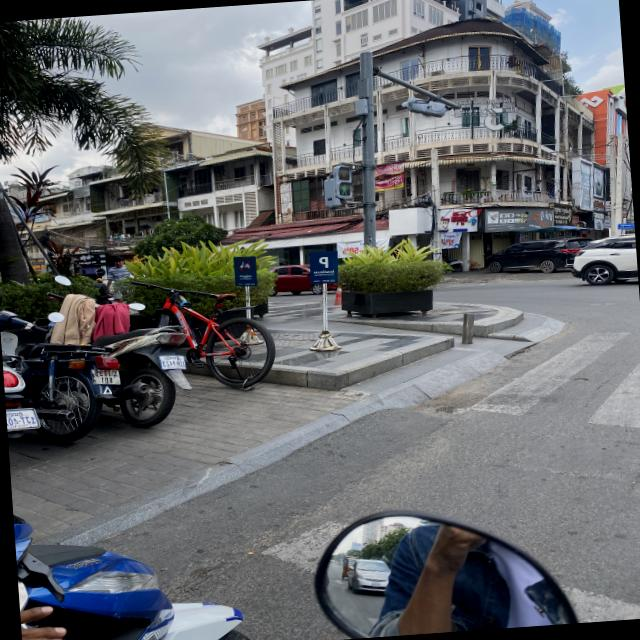1: (539, 208, 554, 221)
213: (93, 368, 112, 377)
4: (462, 95, 516, 107)
503: (29, 415, 36, 423), (181, 360, 186, 366), (101, 376, 104, 383)
747: (7, 417, 20, 425)
882: (161, 360, 178, 367)
Yolov11kh: (535, 219, 549, 228), (6, 411, 24, 418), (318, 269, 335, 274), (104, 376, 114, 384), (238, 273, 253, 278), (165, 355, 180, 360)
